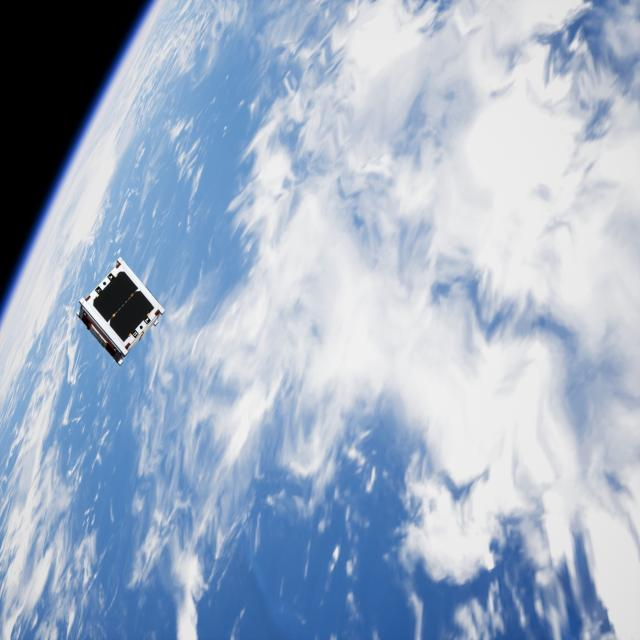satellite: (71, 255, 167, 362)
